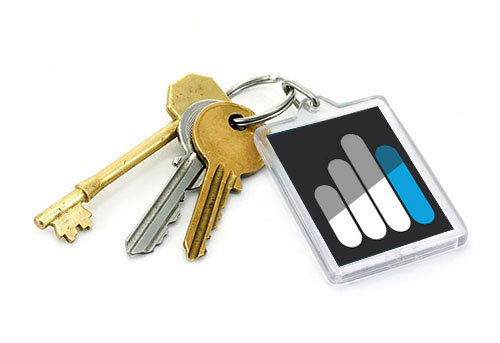keys: (33, 66, 293, 260)
